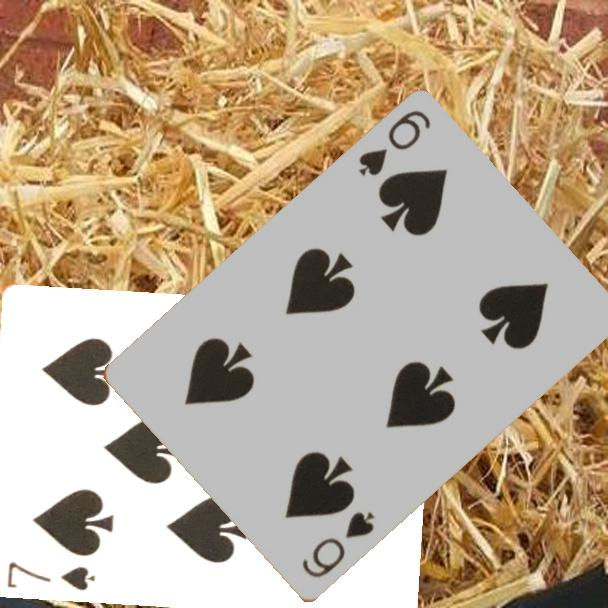s06: (298, 508, 379, 582), (354, 107, 434, 180)
s07: (3, 559, 97, 594)
